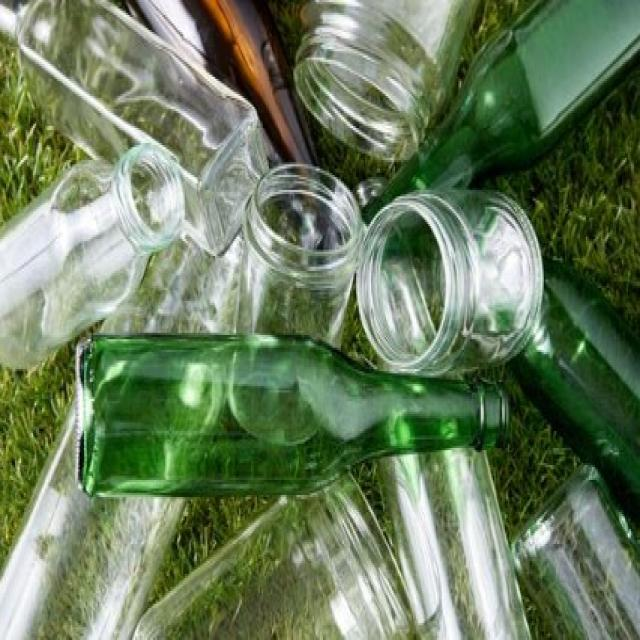electronic: (73, 330, 508, 499)
